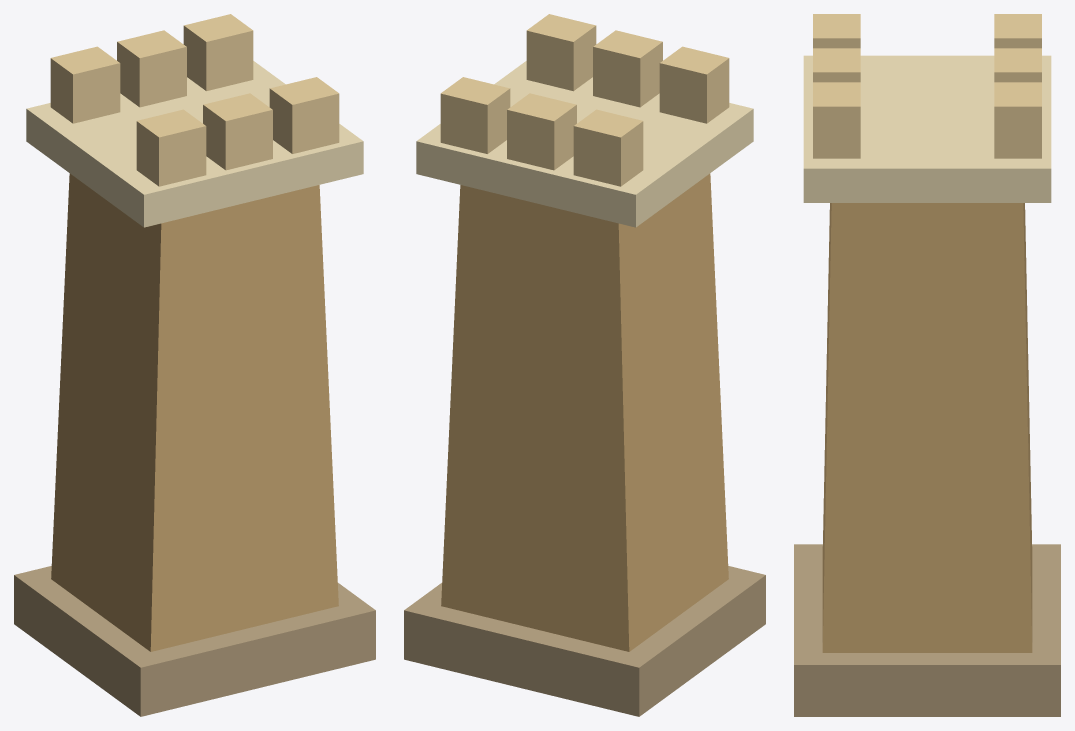
The model's file is wall_end_buttress.fbx.
3 views of the same model, side by side, from view 1: azimuth 30°, elevation 25°; view 2: azimuth 150°, elevation 25°; view 3: azimuth 270°, elevation 25° (orthographic). The views are drawn at different scales.
Visible parts, largest first — view 1: wall_end_buttress; view 2: wall_end_buttress; view 3: wall_end_buttress.
Boxes of the visible parts, box(x1,y1,x2,y2) form: wall_end_buttress: box(14, 14, 375, 716); wall_end_buttress: box(404, 14, 765, 716); wall_end_buttress: box(794, 14, 1060, 716).
Bounding box in the file's own units: 3 × 6.9 × 2.8.
1 material, 1 textured.
